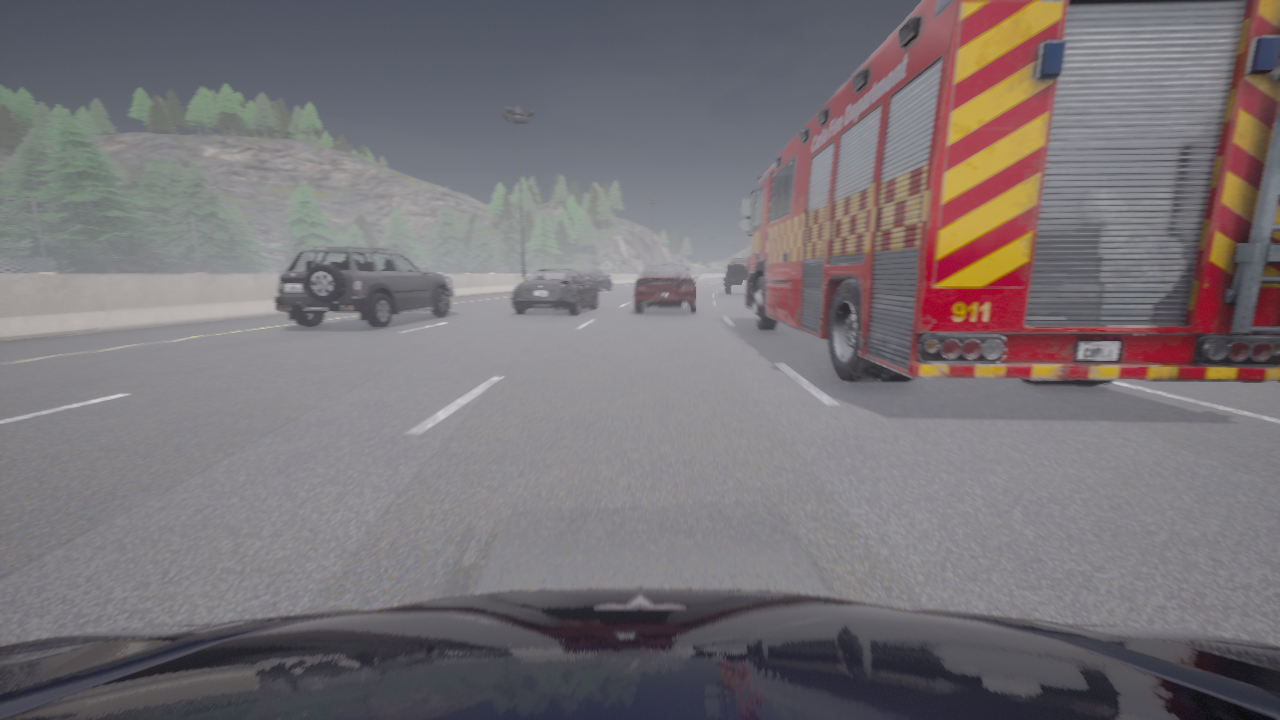cyclist: (739, 0, 1279, 384), (0, 588, 1279, 719), (275, 245, 453, 327), (511, 268, 597, 314), (634, 263, 699, 312), (724, 258, 748, 294), (578, 269, 611, 290)
